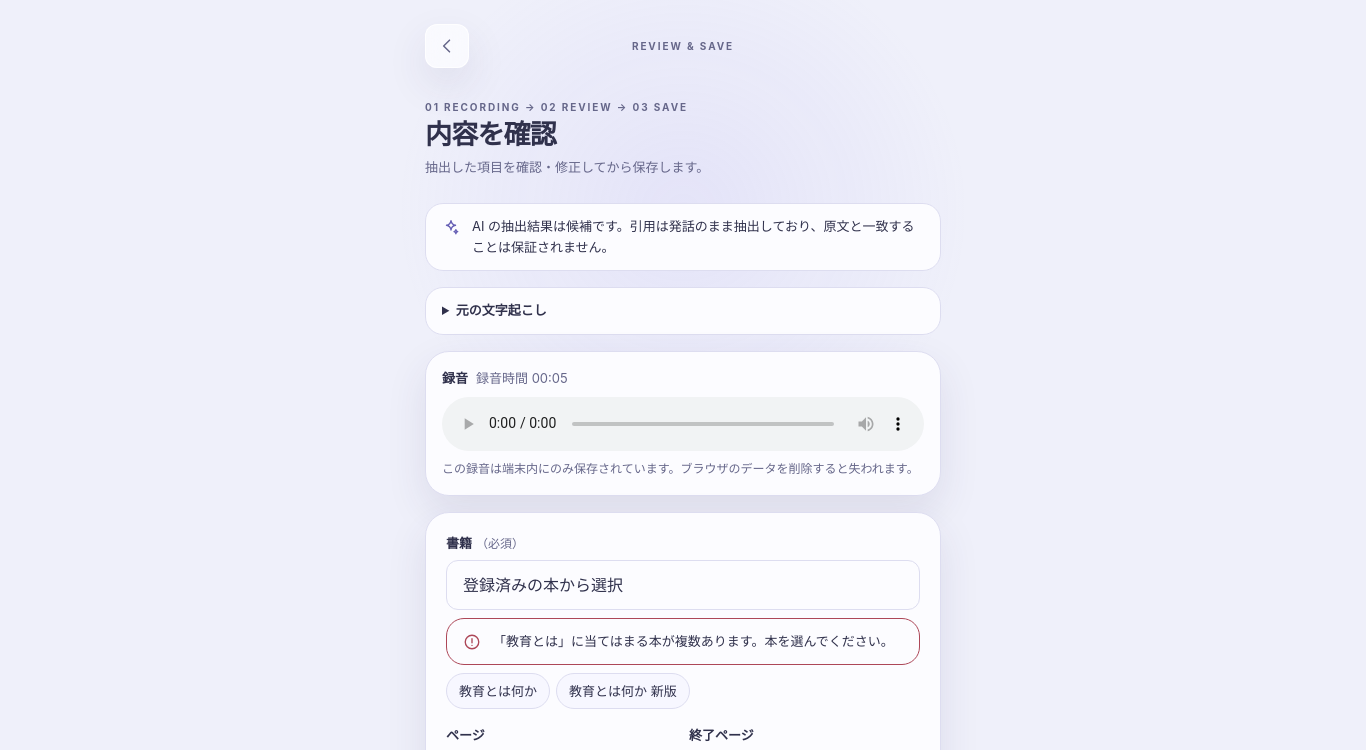
Test case: 確認画面（AI 抽出） › 書名が本棚にないときは自動で選ばず、登録へ案内する。複数候補なら選ばせる
Expected: the dropdown labelled "書籍（必須）" shows "登録済みの本から選択", [446,560,920,610]
Step 1. Click the button "教育とは何か 新版" → point(623, 691), box [556,673,690,709]
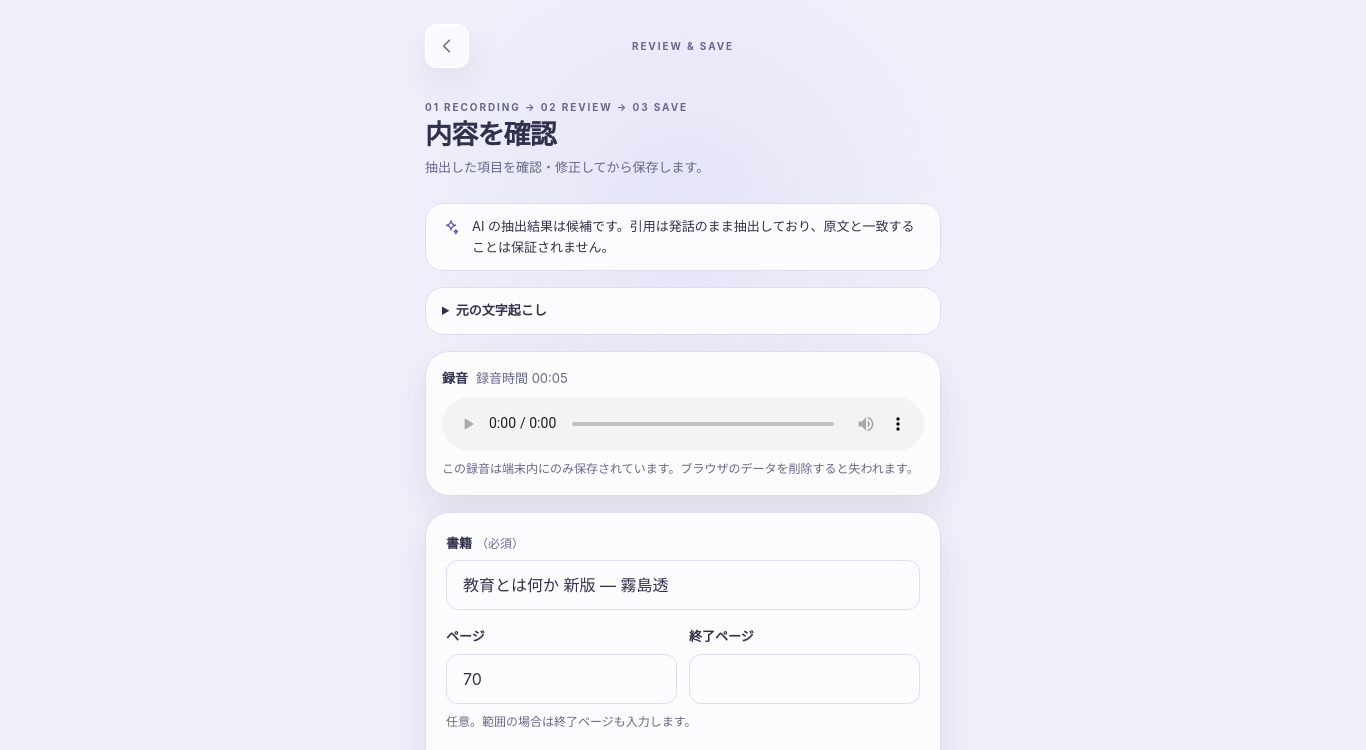
Now the dropdown labelled "書籍（必須）" shows "教育とは何か 新版 — 霧島透", box [446,560,920,610]
